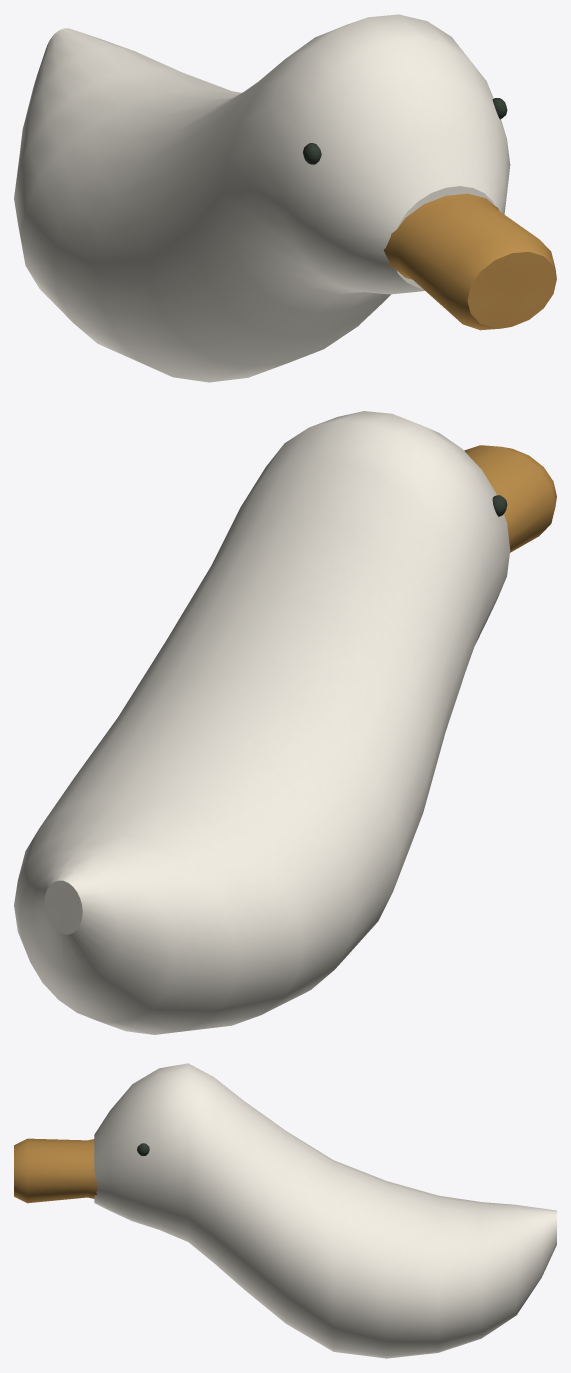
Rendered from FloatingDuck.fbx.
The picture shows the model from 3 angles, top to bottom: view 1: azimuth 30°, elevation 25°; view 2: azimuth 150°, elevation 25°; view 3: azimuth 270°, elevation 25°; orthographic projection. The views are drawn at different scales.
Visible parts, largest first — view 1: FloatingDuck_Mesh; view 2: FloatingDuck_Mesh; view 3: FloatingDuck_Mesh.
Boxes of the visible parts, x1,y1,x2,y2 form: FloatingDuck_Mesh: (14, 14, 556, 382); FloatingDuck_Mesh: (14, 411, 556, 1034); FloatingDuck_Mesh: (14, 1063, 556, 1358).
Size of the model in its own units: 0.0519 by 0.0752 by 0.1337.
1 material, 1 textured.
